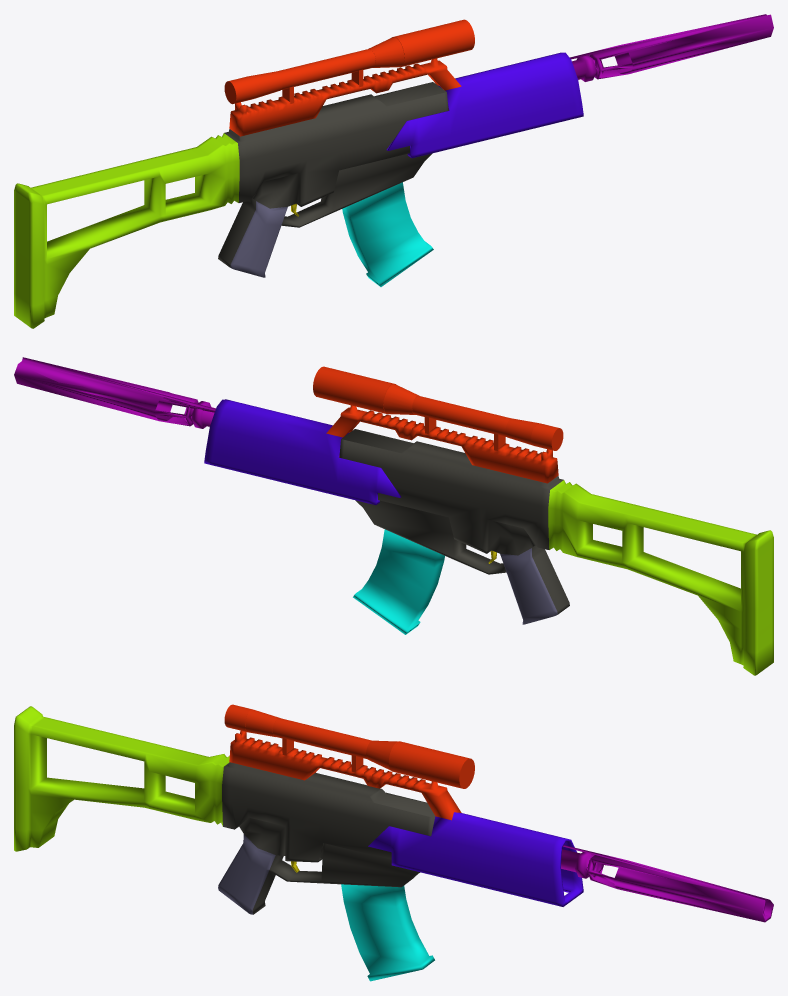
File: Sniper.fbx
3 views of the same model, one above another, from view 1: azimuth 30°, elevation 25°; view 2: azimuth 150°, elevation 25°; view 3: azimuth 330°, elevation 25° (orthographic).
Parts seen in each view (by area): view 1: Gun_UVd:ZBrushPolyMesh3D, scope1, scope3, scope2, scope5, scope4; view 2: Gun_UVd:ZBrushPolyMesh3D, scope1, scope3, scope2, scope5, scope4; view 3: Gun_UVd:ZBrushPolyMesh3D, scope1, scope3, scope4, scope2, scope5.
Part boxes in pixels (x1,y1,x2,y2): Gun_UVd:ZBrushPolyMesh3D: (14,14,773,328); scope1: (391,19,474,67); scope3: (276,49,375,89); scope2: (368,36,404,67); scope5: (224,76,256,104); scope4: (249,71,282,98); Gun_UVd:ZBrushPolyMesh3D: (14,357,773,675); scope1: (313,366,395,414); scope3: (412,396,511,436); scope2: (383,384,419,414); scope5: (531,423,563,450); scope4: (505,418,538,445); Gun_UVd:ZBrushPolyMesh3D: (14,706,773,981); scope1: (388,741,474,788); scope3: (272,718,371,759); scope4: (245,709,279,736); scope2: (366,740,397,770); scope5: (224,704,251,732).
Bounding box in the file's own units: 16.38 × 5.05 × 0.7698.
